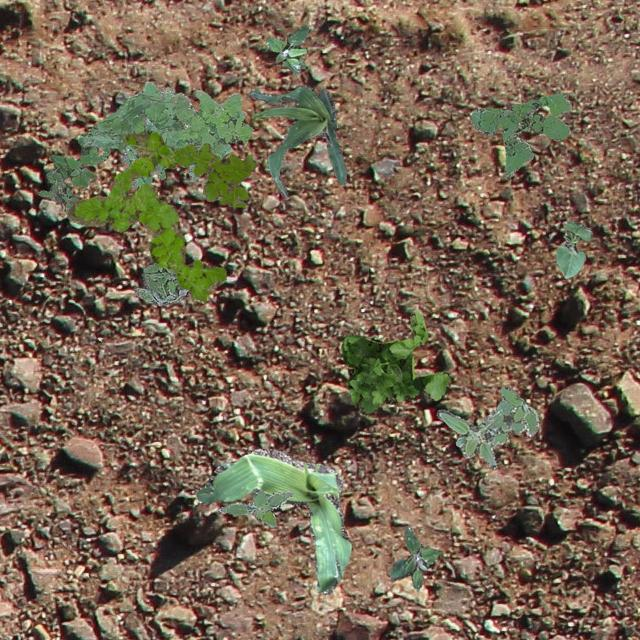crop: (194, 448, 350, 594), (248, 85, 346, 196), (554, 220, 592, 278)
weed: (66, 130, 226, 302), (76, 80, 252, 180), (338, 310, 449, 414), (470, 92, 570, 178), (436, 386, 538, 468), (172, 142, 255, 206), (36, 144, 110, 212), (388, 526, 438, 588), (126, 116, 166, 190), (218, 489, 292, 526), (133, 262, 190, 304), (266, 24, 308, 74)
